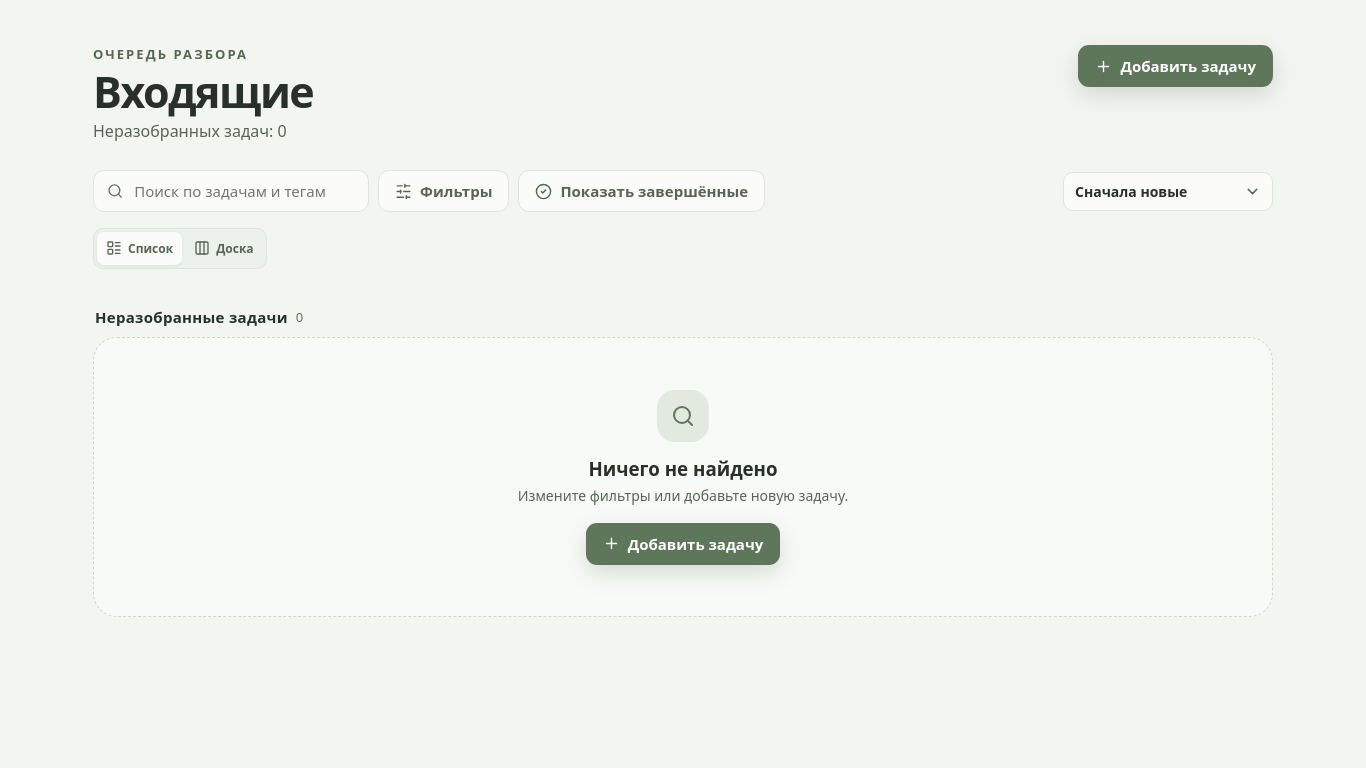
it: Inbox header › uses each task project threshold in the urgent filter
This screenshot has width=1366, height=768.
What coordinates should you click on to do the following:
click the button "Фильтры"
I would click on:
 (444, 191)
Its box is [378,170,509,212].
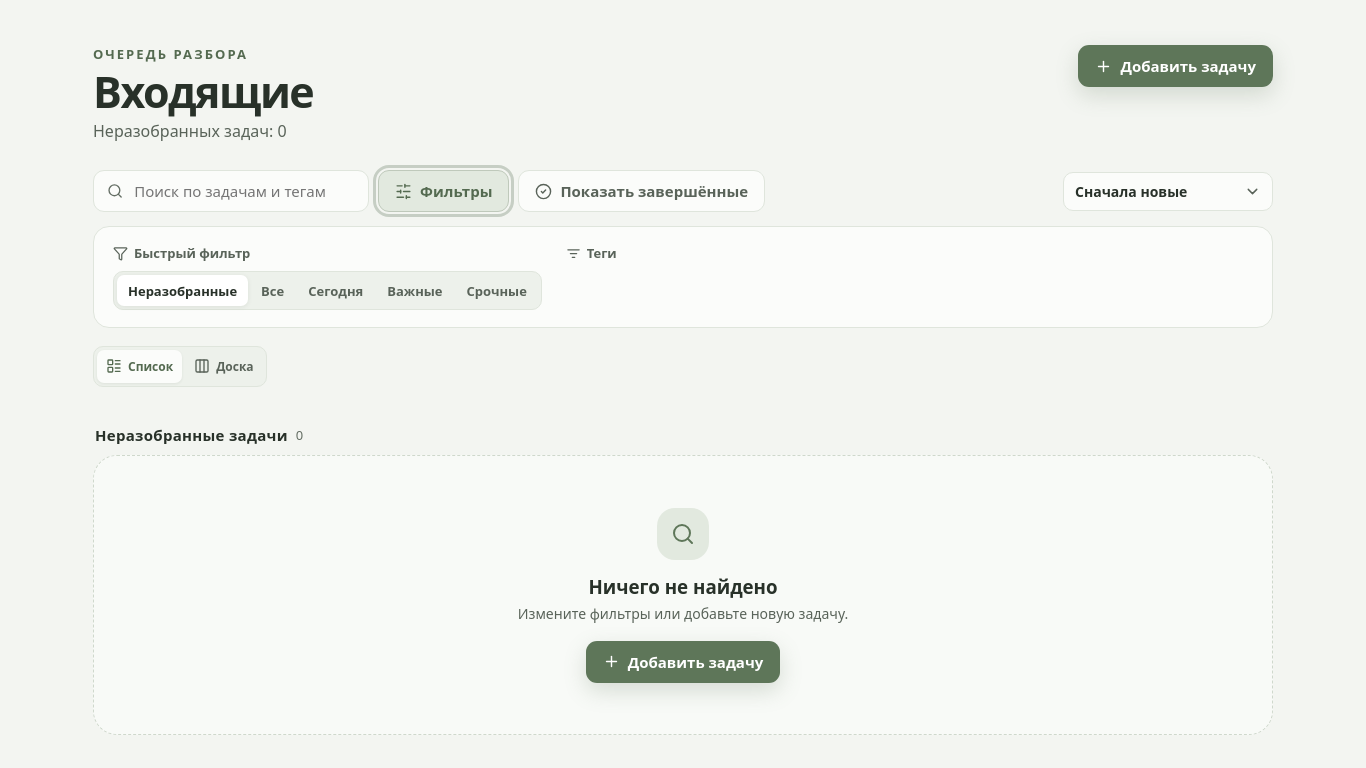
What coordinates should you click on to do the following:
click the button "Срочные"
I would click on:
 (497, 290)
Its box is [456,275,538,306].
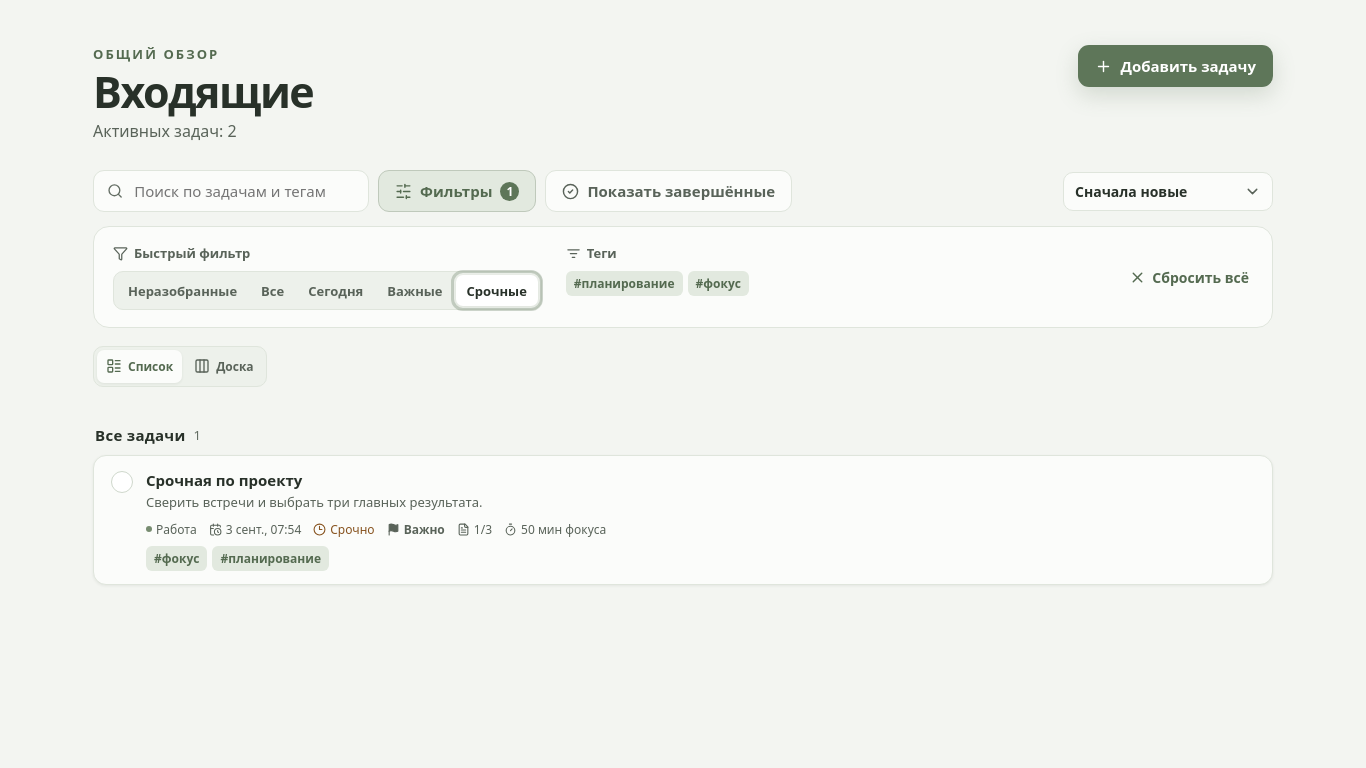
Expected: the text "Срочная по проекту" is shown, [146,470,302,490]
